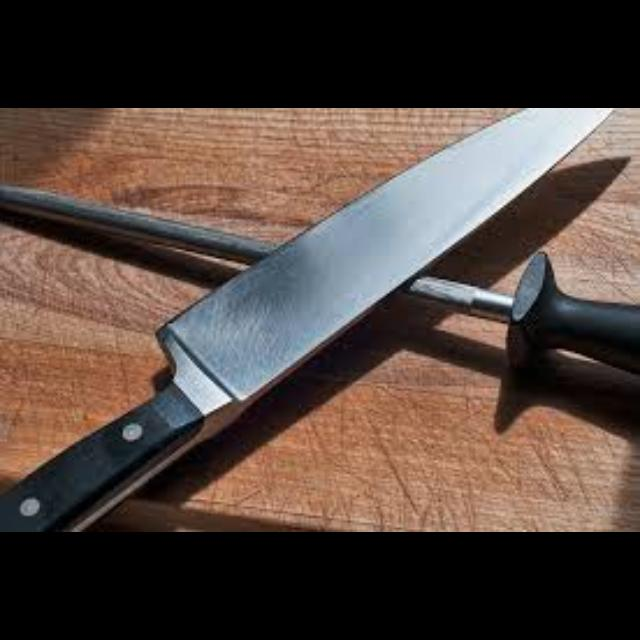knife: (1, 108, 620, 530)
